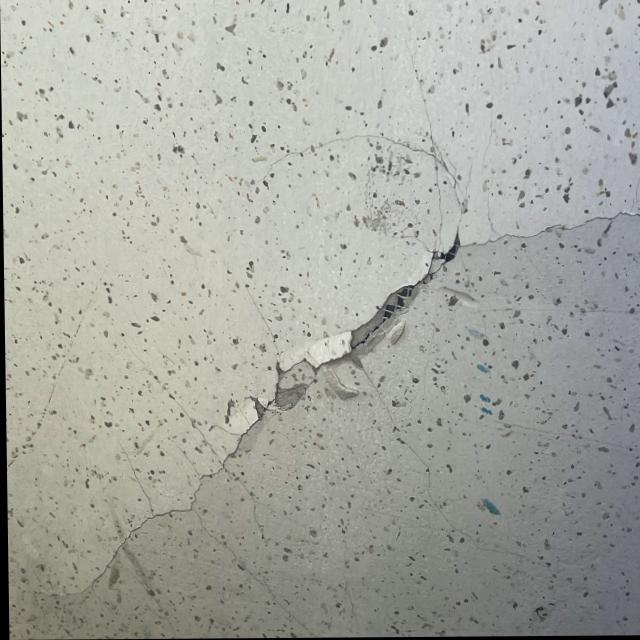crack: (36, 423, 262, 615)
spalling: (224, 228, 492, 437)
